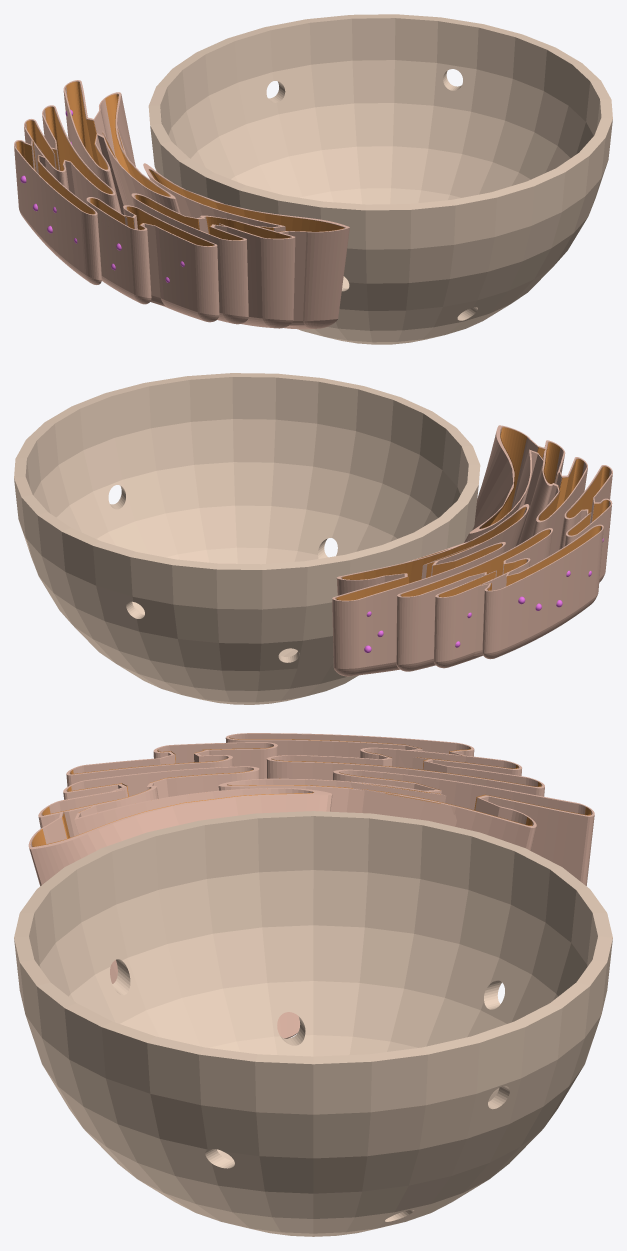
Rendered from retikulum.fbx.
3 views of the same model, one above another, from view 1: azimuth 30°, elevation 25°; view 2: azimuth 150°, elevation 25°; view 3: azimuth 270°, elevation 25° (orthographic). The views are drawn at different scales.
Parts seen in each view (by area): view 1: Sphere, Sphere.041, Spheredalam.018; view 2: Sphere, Sphere.041, Spheredalam.018; view 3: Sphere, Sphere.041, Spheredalam.018.
Boxes of the visible parts, left/top/right/bottom form: Sphere: left=148, top=14, right=612, bottom=344; Sphere.041: left=14, top=80, right=349, bottom=329; Spheredalam.018: left=16, top=81, right=343, bottom=246; Sphere: left=14, top=373, right=480, bottom=704; Sphere.041: left=332, top=425, right=612, bottom=676; Spheredalam.018: left=336, top=427, right=609, bottom=600; Sphere: left=14, top=811, right=612, bottom=1236; Sphere.041: left=28, top=733, right=594, bottom=1038; Spheredalam.018: left=32, top=737, right=591, bottom=846.
Bounding box in the file's own units: 262 × 100 × 200.
